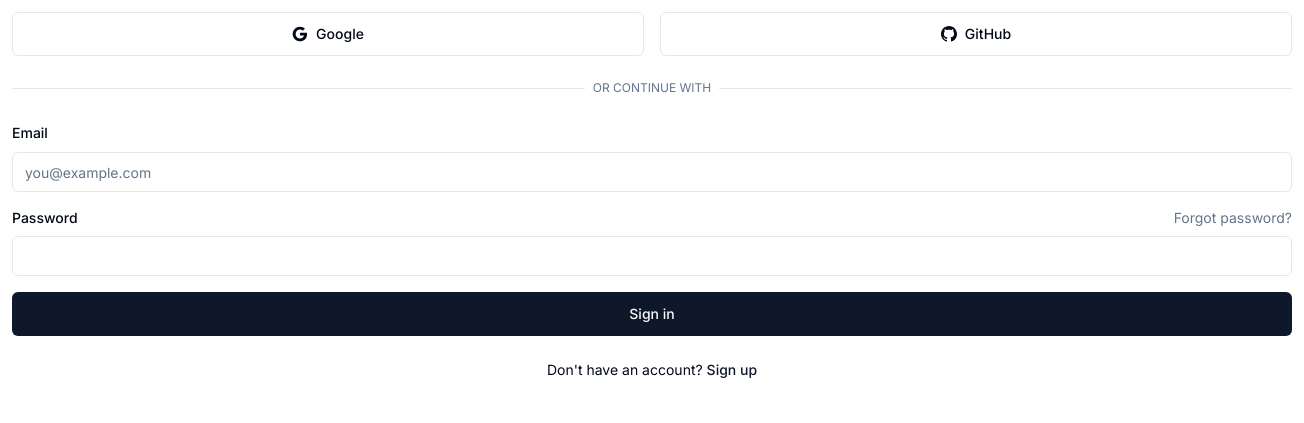
LoginForm › Inline Validation › shows inline error for empty email on blur
The image size is (1304, 423).
Click the field with test id "email": click(652, 172) [12,152,1292,192]
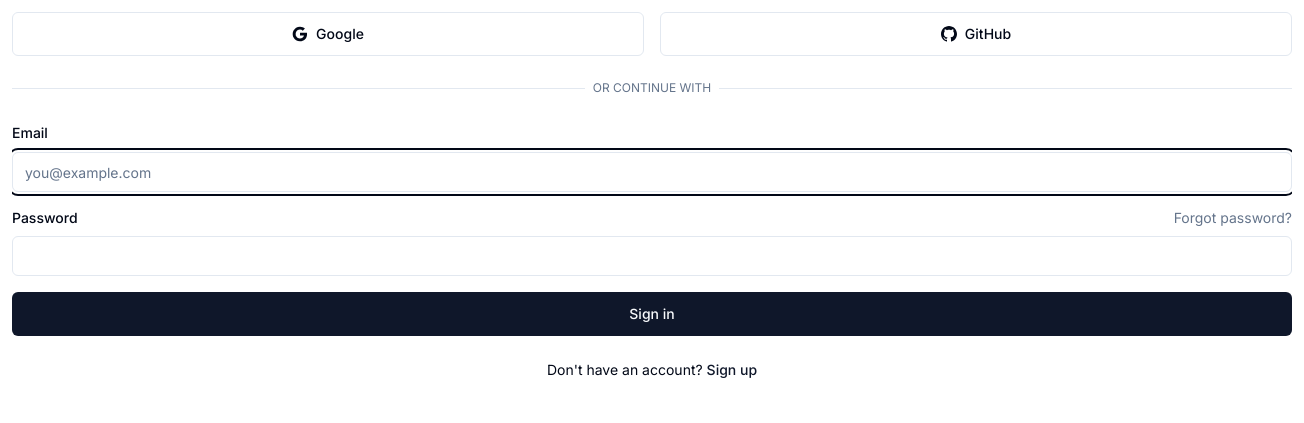
Press Tab
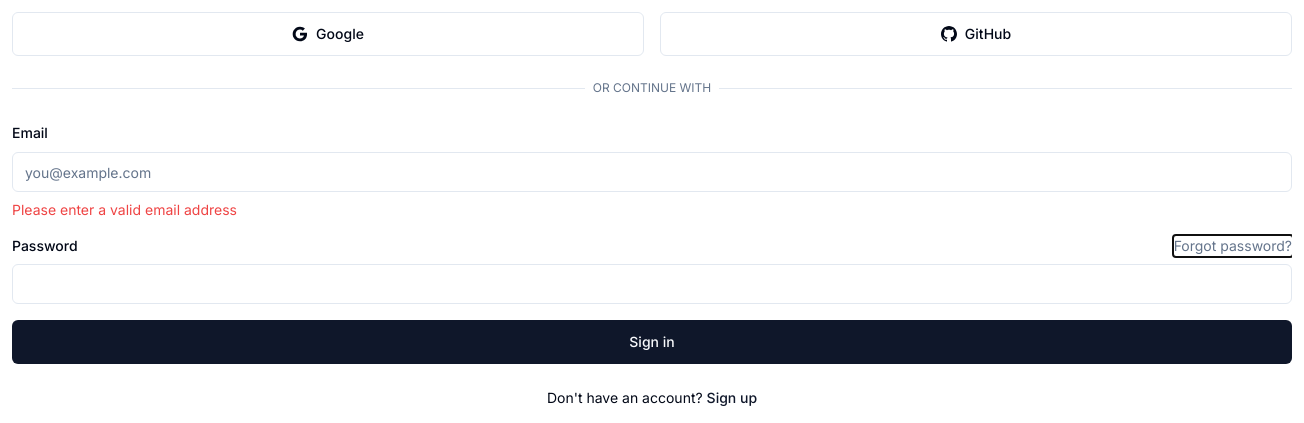
Expected: the text "Please enter a valid email address" is shown, [12,201,237,218]
